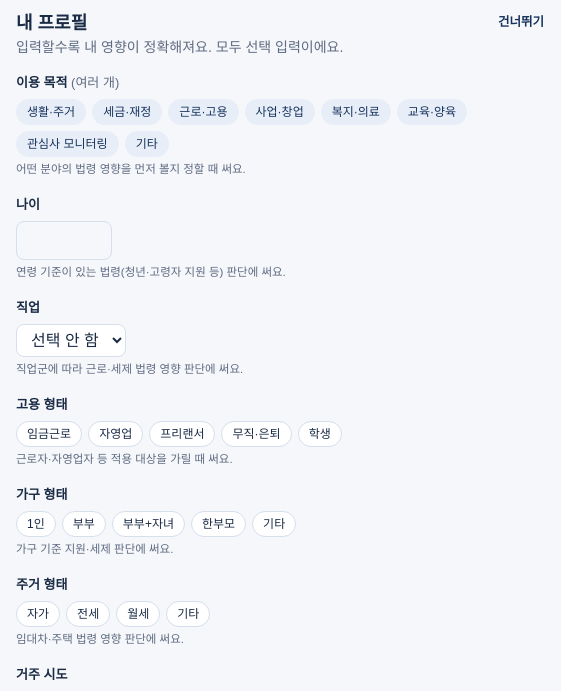
Test: ProfileScreen › 돌아올 경로가 지금 화면(/profile)이면 무시하고 저장했어요를 보인다
The width and height of the screenshot is (561, 691).
Click the radio button labelled "전세" at (88, 614), box [66,601,110,627]
(page scrolled)
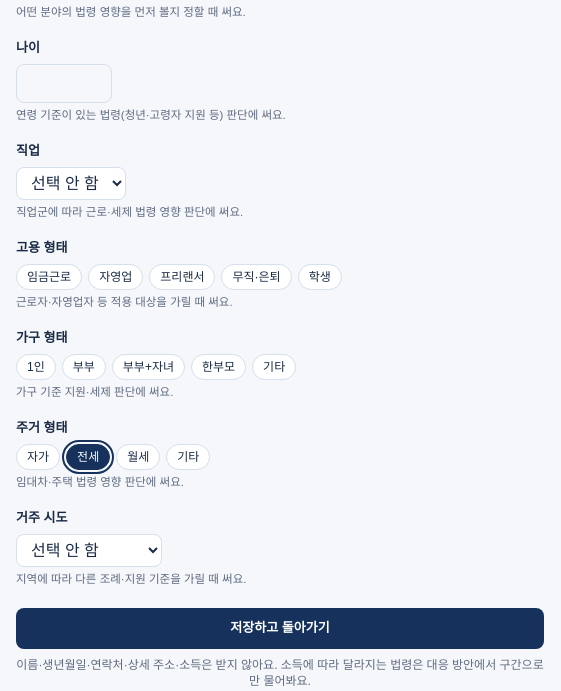
Click the button "저장하고 돌아가기" at (280, 629), box [16,608,544,649]
(page scrolled)
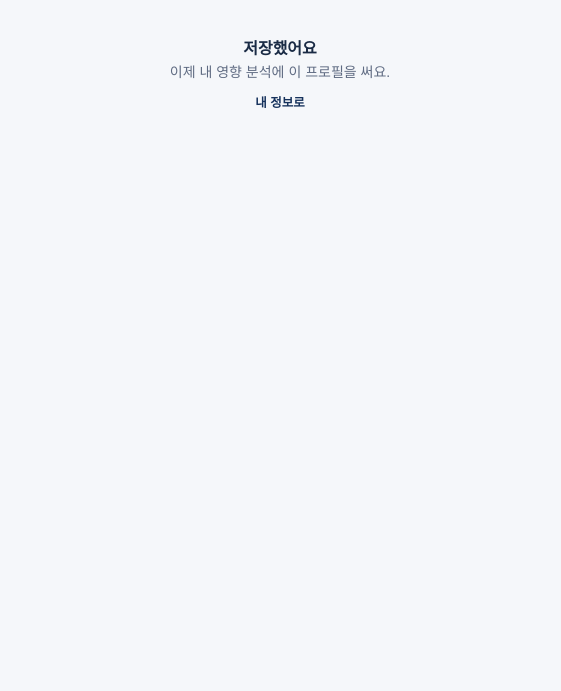
Result: the heading "저장했어요" is shown at [243,40,317,57]
